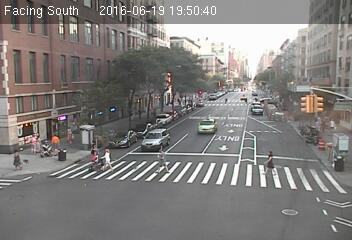neg: (315, 165, 334, 190), (288, 139, 306, 164), (280, 196, 295, 215), (101, 188, 115, 208), (32, 164, 46, 183), (126, 14, 140, 33), (18, 84, 32, 102), (59, 177, 73, 195), (147, 200, 159, 216), (178, 17, 190, 33), (23, 9, 35, 24), (283, 23, 294, 38), (259, 41, 270, 56), (216, 159, 227, 173), (217, 129, 227, 143), (14, 30, 24, 44), (55, 30, 65, 43), (233, 192, 243, 205), (75, 26, 85, 39), (278, 109, 287, 122), (174, 38, 183, 51), (210, 58, 219, 71), (330, 49, 339, 61), (316, 18, 325, 30), (234, 20, 243, 32), (195, 64, 204, 76), (132, 48, 141, 59), (30, 50, 39, 61), (157, 22, 166, 33), (195, 169, 203, 181), (111, 63, 119, 74), (197, 122, 205, 133), (66, 5, 74, 16), (175, 71, 183, 82), (70, 69, 78, 79), (307, 51, 315, 61), (131, 90, 139, 100), (155, 89, 162, 98), (99, 25, 106, 34), (245, 118, 252, 127), (203, 28, 210, 37), (200, 85, 205, 91)
pos: (153, 147, 173, 173), (259, 149, 278, 175), (45, 130, 63, 154), (62, 123, 79, 146), (8, 147, 24, 168), (22, 131, 38, 151), (100, 148, 115, 168), (33, 133, 48, 152), (324, 115, 338, 133), (224, 97, 229, 104)
